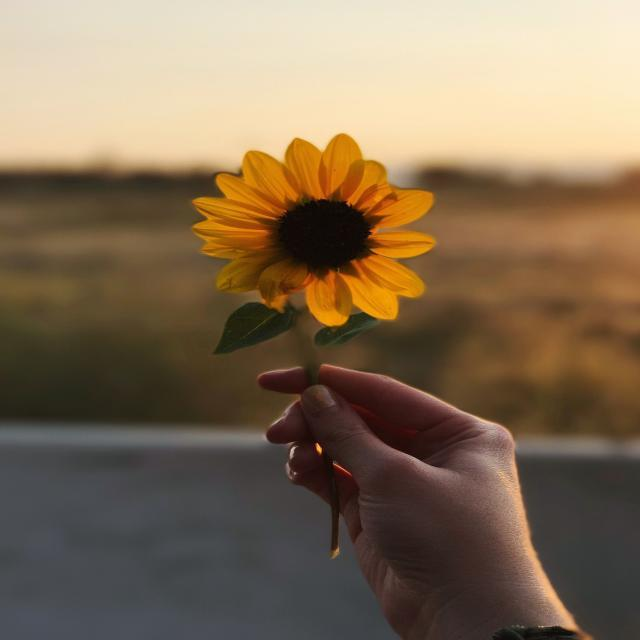sunflower: (190, 132, 436, 327)
